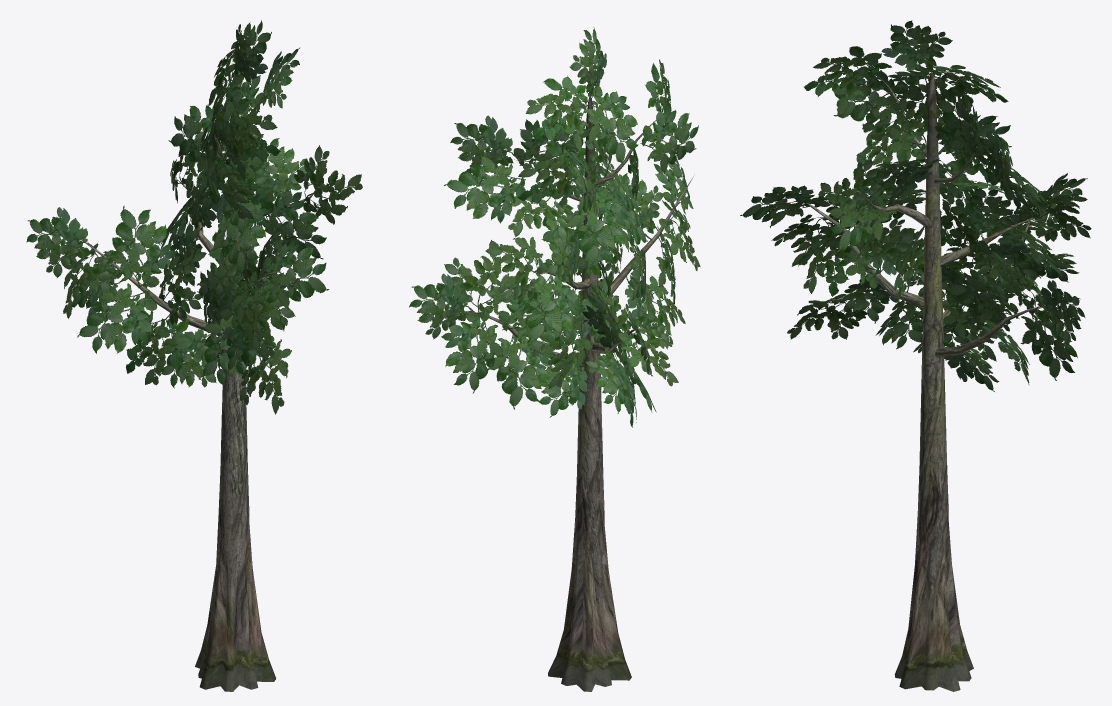
Rendered from arbol4.obj.
3 renders of one model, left to right at view 1: azimuth 30°, elevation 25°; view 2: azimuth 150°, elevation 25°; view 3: azimuth 270°, elevation 25°, orthographic. The views are drawn at different scales.
Parts seen in each view (by area): view 1: tree_swamp_leaf; view 2: tree_swamp_leaf; view 3: tree_swamp_leaf.
Part boxes in pixels (x1,y1,x2,y2): tree_swamp_leaf: [26, 20, 362, 691]; tree_swamp_leaf: [409, 27, 700, 691]; tree_swamp_leaf: [740, 20, 1091, 691].
Bounding box in the file's own units: 4.71 × 11.59 × 5.71.
